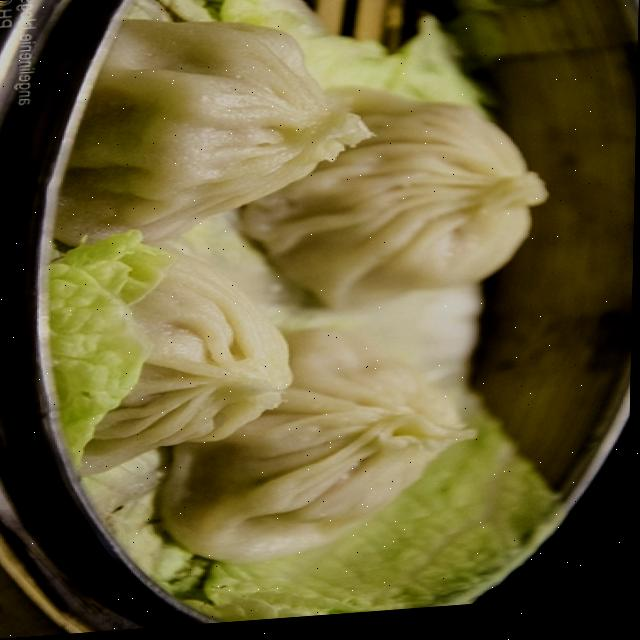带馅早点: (9, 0, 595, 598)
